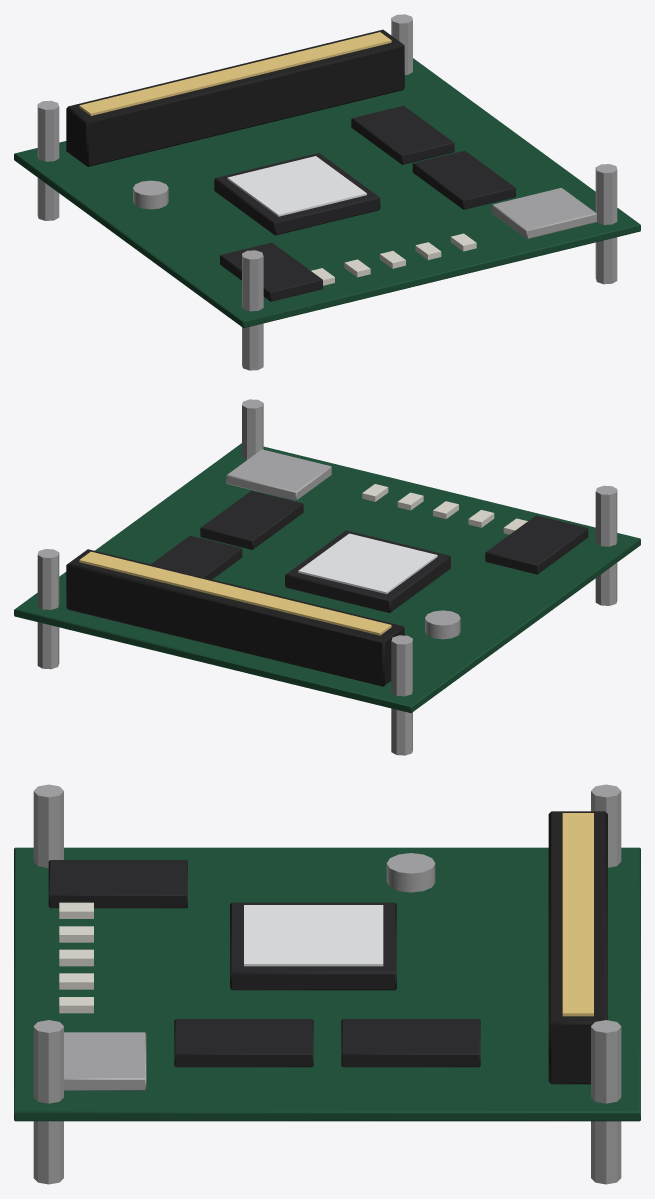
File: mod_int_computer.glb
3 views of the same model, one above another, from view 1: azimuth 30°, elevation 25°; view 2: azimuth 150°, elevation 25°; view 3: azimuth 270°, elevation 25° (orthographic). The views are drawn at different scales.
Parts seen in each view (by area): view 1: mod_int_computer; view 2: mod_int_computer; view 3: mod_int_computer.
Boxes of the visible parts, left/top/right/bottom form: mod_int_computer: left=14, top=14, right=640, bottom=370; mod_int_computer: left=14, top=399, right=640, bottom=755; mod_int_computer: left=14, top=784, right=640, bottom=1184.
Bounding box in the file's own units: 0.9 × 0.24 × 0.9.
